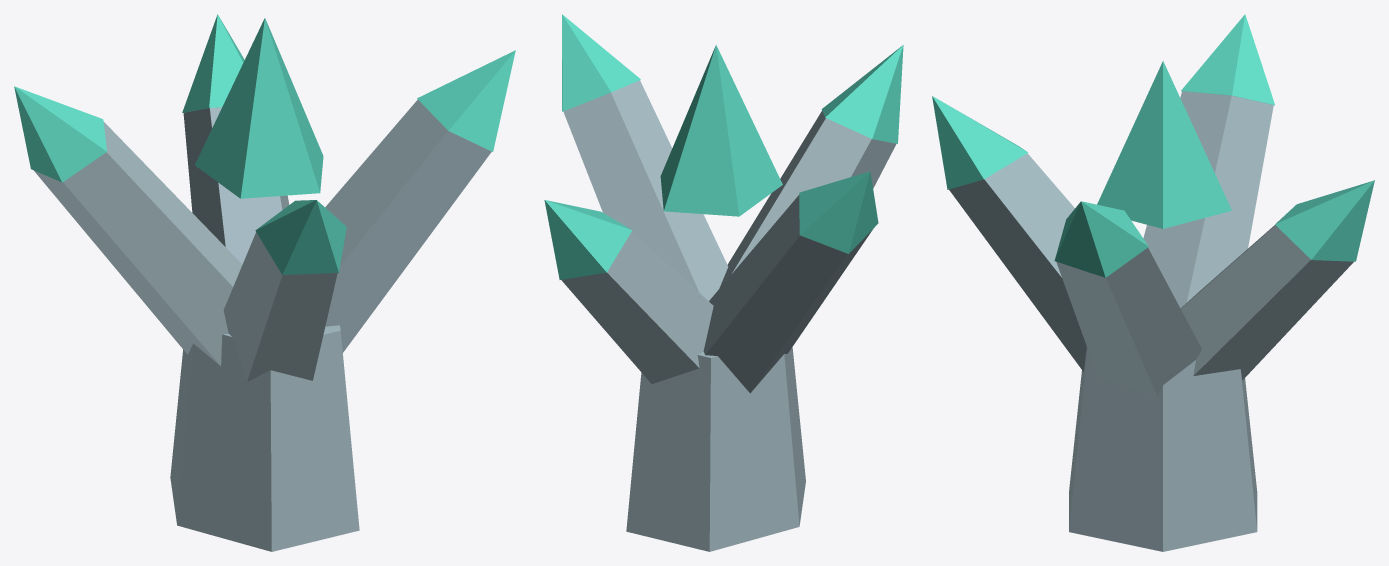
File: env_r14_dead_coral.glb
The picture shows the model from 3 angles, left to right: view 1: azimuth 30°, elevation 25°; view 2: azimuth 150°, elevation 25°; view 3: azimuth 270°, elevation 25°; orthographic projection. The views are drawn at different scales.
Parts seen in each view (by area): view 1: env_r14_dead_coral; view 2: env_r14_dead_coral; view 3: env_r14_dead_coral.
Boxes of the visible parts, x1,y1,x2,y2 form: env_r14_dead_coral: (14,14,515,551); env_r14_dead_coral: (544,14,903,551); env_r14_dead_coral: (932,14,1374,551).
Size of the model in its own units: 1.6 by 1.8 by 1.6.
1 material, 1 textured.
